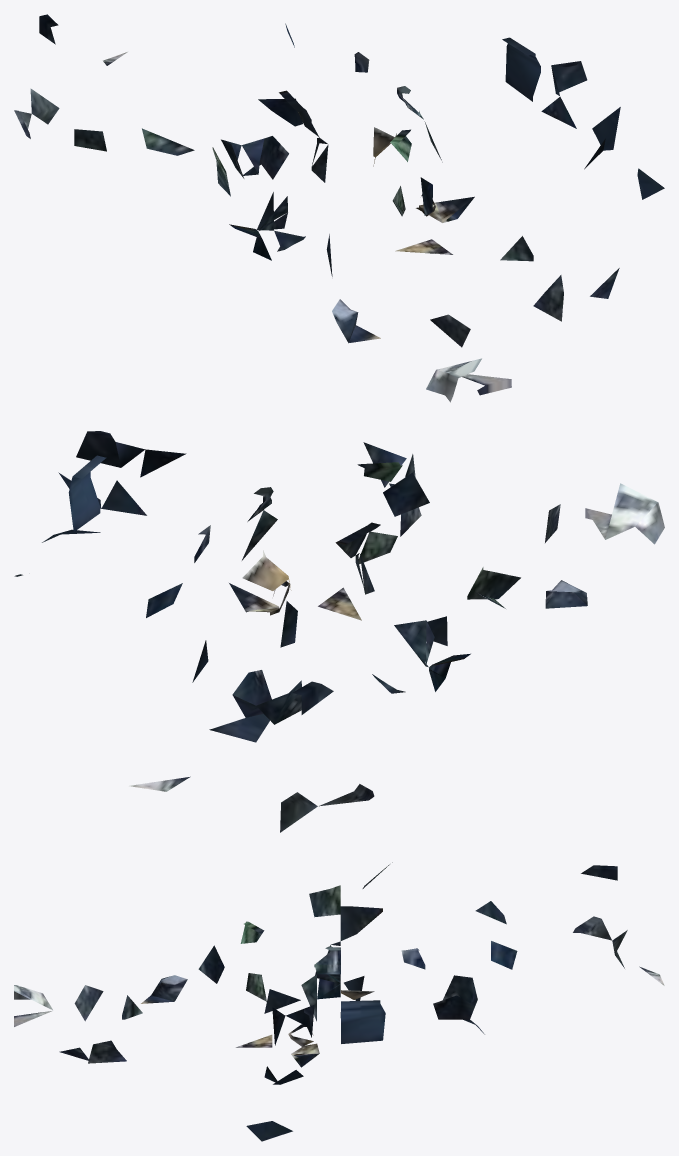
3 views of the same model, one above another, from view 1: azimuth 30°, elevation 25°; view 2: azimuth 150°, elevation 25°; view 3: azimuth 270°, elevation 25° (orthographic). The views are drawn at different scales.
Visible parts, largest first — view 1: 30436272704370436711_1; view 2: 30436272704370436711_1; view 3: 30436272704370436711_1.
Boxes of the visible parts, left/top/right/bottom form: 30436272704370436711_1: left=14, top=14, right=664, bottom=402; 30436272704370436711_1: left=14, top=431, right=664, bottom=832; 30436272704370436711_1: left=14, top=862, right=664, bottom=1141.
Size of the model in its own units: 25.93 by 7.71 by 38.1.
1 material, 1 textured.
